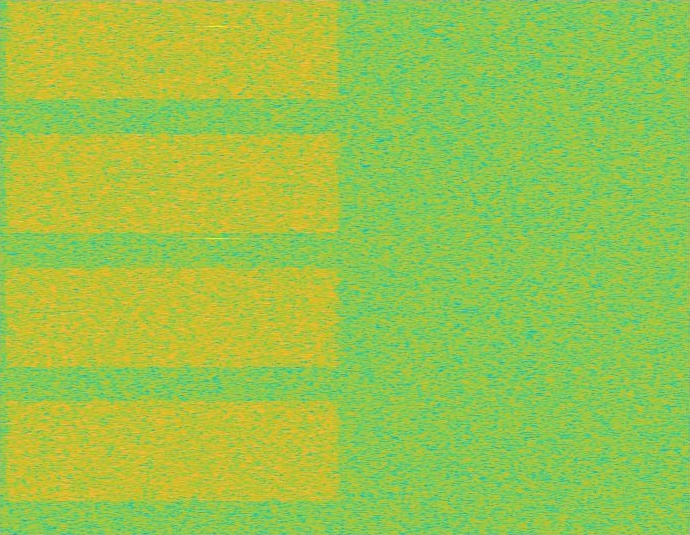5G: (0, 0, 345, 534)
Radar: (210, 0, 224, 534)
